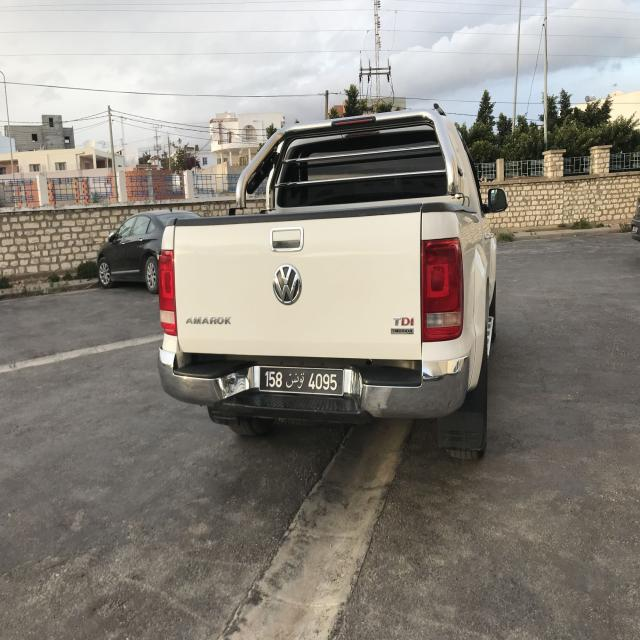LP: (258, 366, 349, 396)
